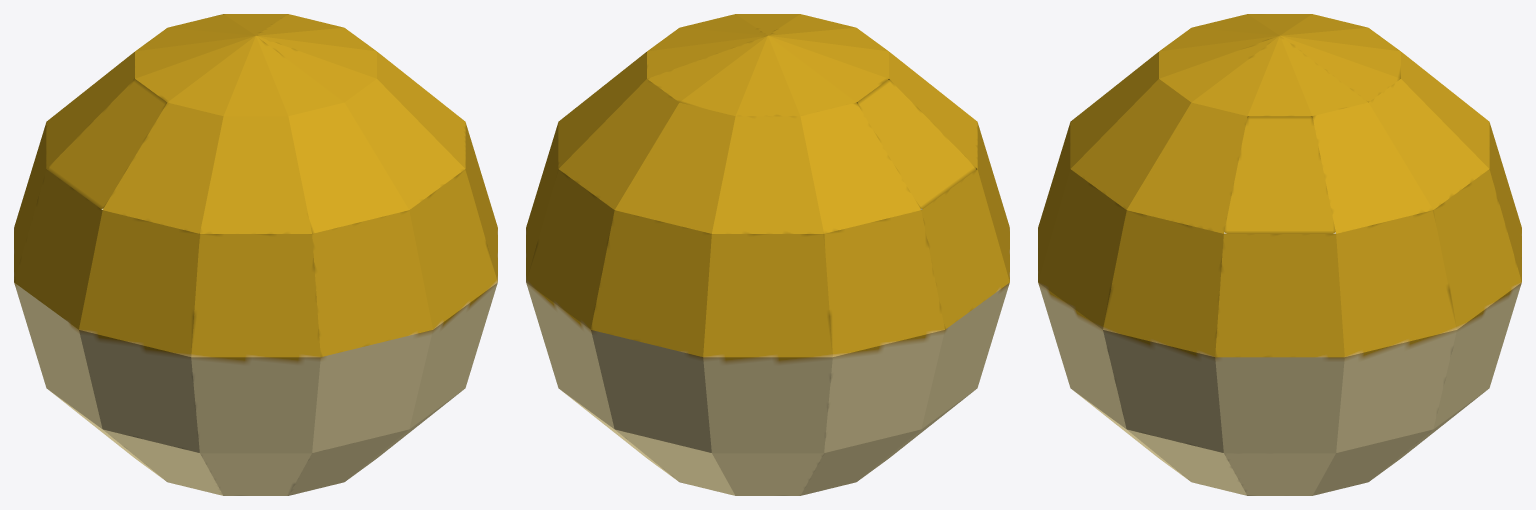
The model's file is nyc_subway_entrance_1_globe_light_1y_light_layer.obj.
3 views of the same model, side by side, from view 1: azimuth 30°, elevation 25°; view 2: azimuth 150°, elevation 25°; view 3: azimuth 270°, elevation 25° (orthographic).
Parts seen in each view (by area): view 1: sphere; view 2: sphere; view 3: sphere.
Part boxes in pixels (<box>): sphere: <box>14,14,497,495</box>; sphere: <box>526,14,1009,495</box>; sphere: <box>1038,14,1521,495</box>.
Size of the model in its own units: 0.5006 by 0.5006 by 0.5006.
1 material, 1 textured.
